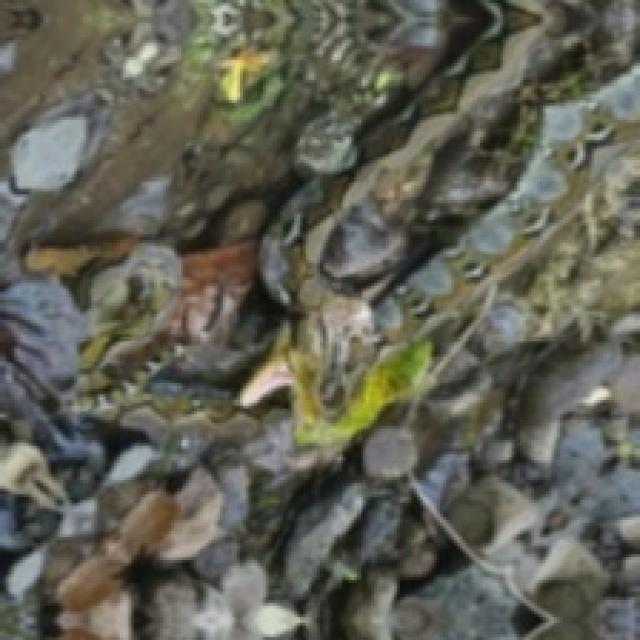reticulated python: (239, 0, 640, 423)
